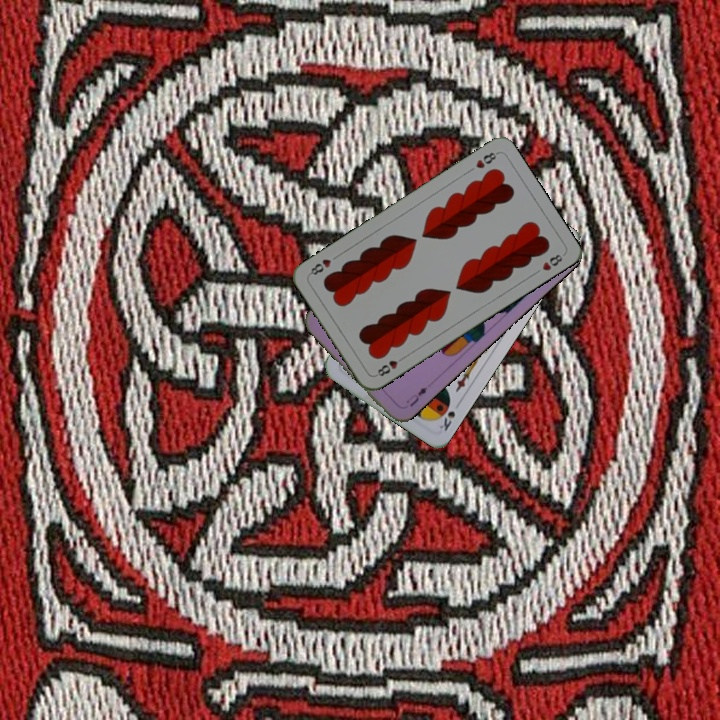EU: (402, 383, 430, 409)
H8: (372, 352, 408, 379), (471, 148, 501, 171)
SK: (435, 397, 463, 434)
